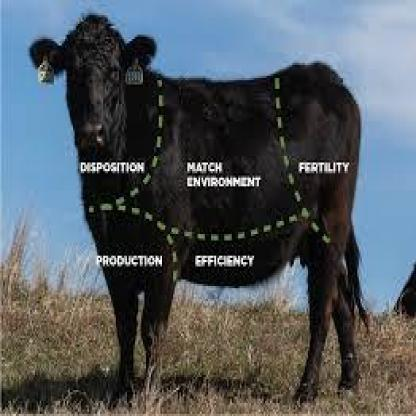cow: (29, 14, 362, 411)
